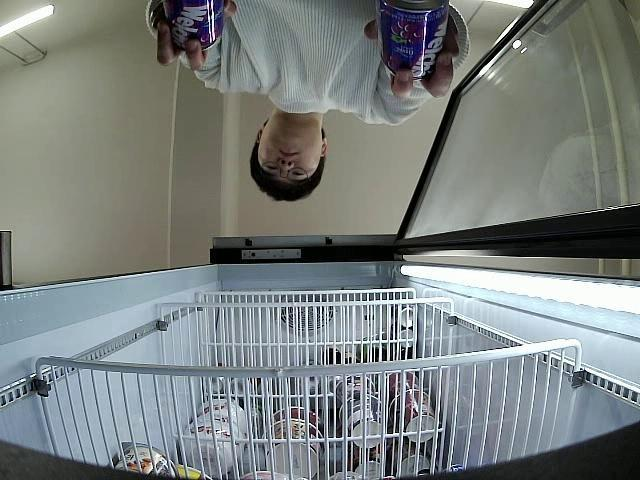14_welchsGrape: (378, 0, 446, 80), (158, 0, 224, 52)
